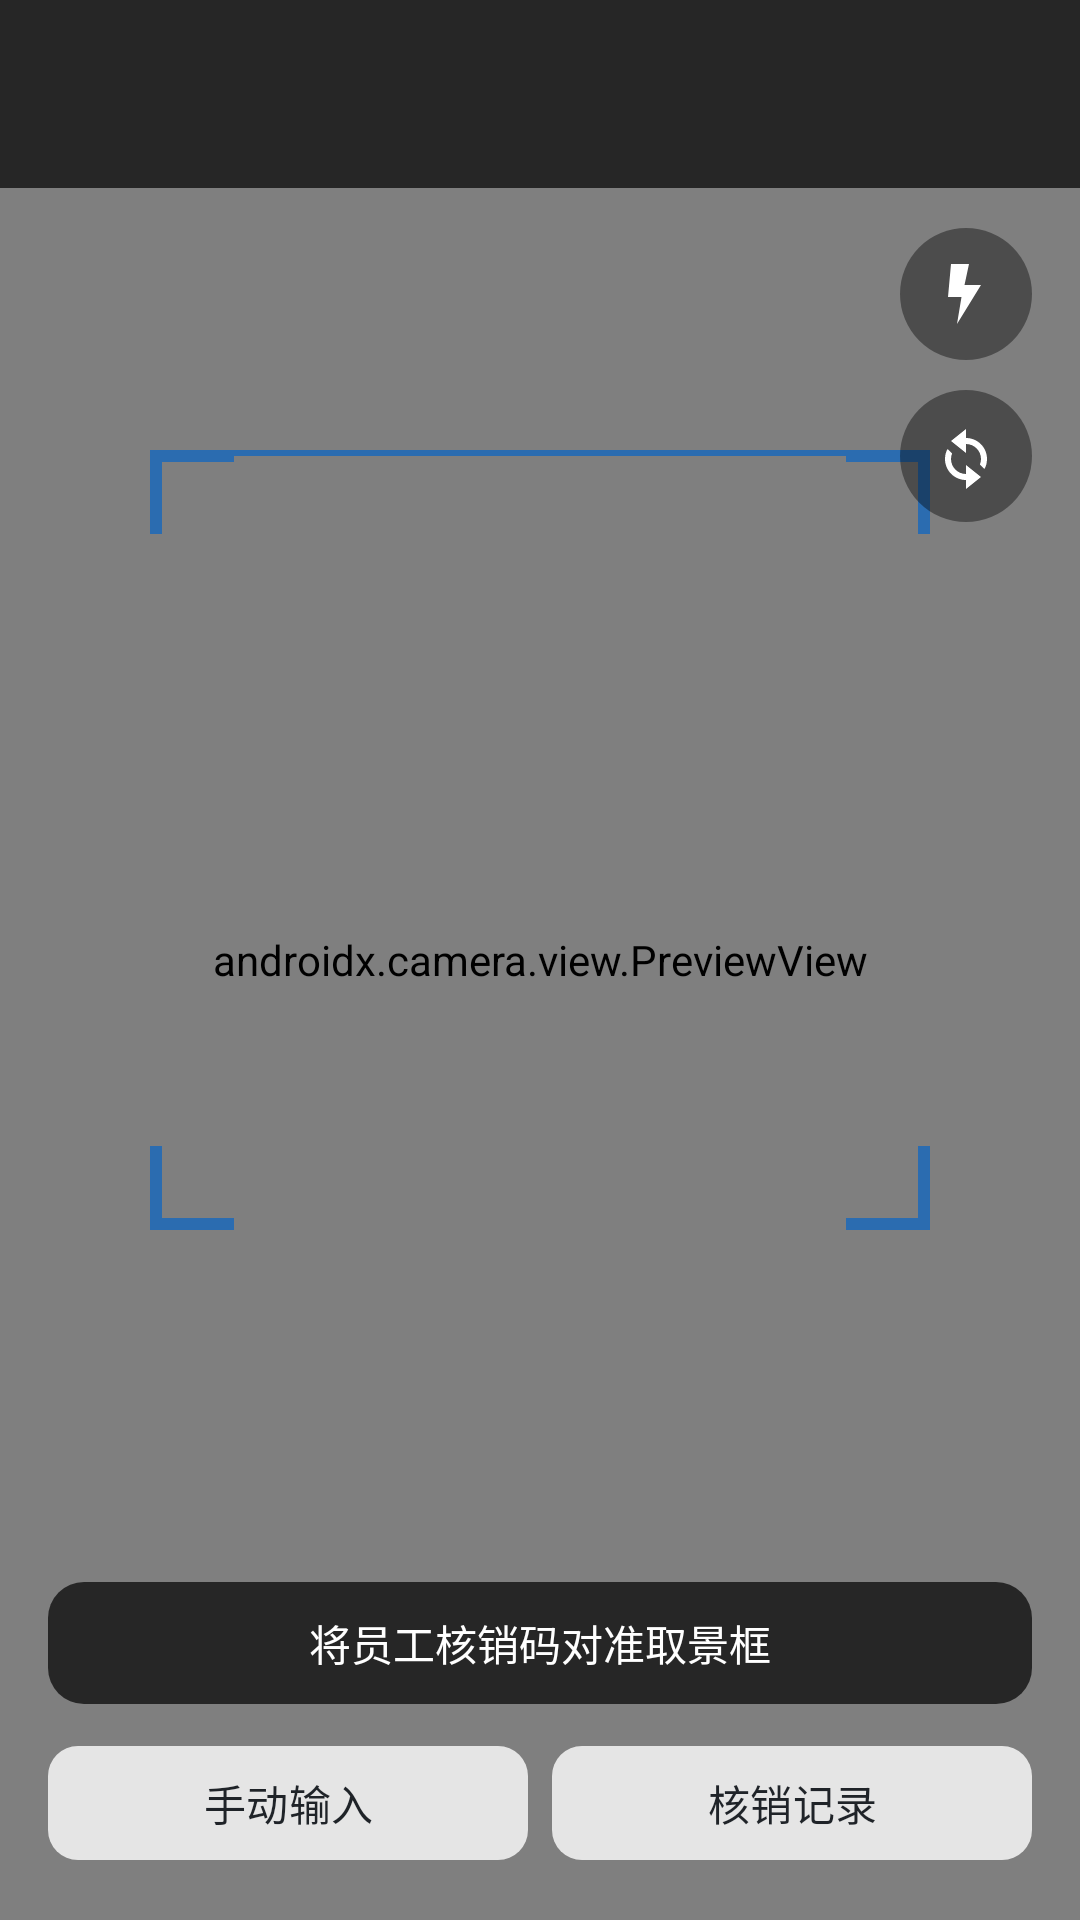

Point at icon controls on the screen. Image size 1080×1920, points as (x,y).
切换镜头: (966,456)
打开补光: (966,294)
